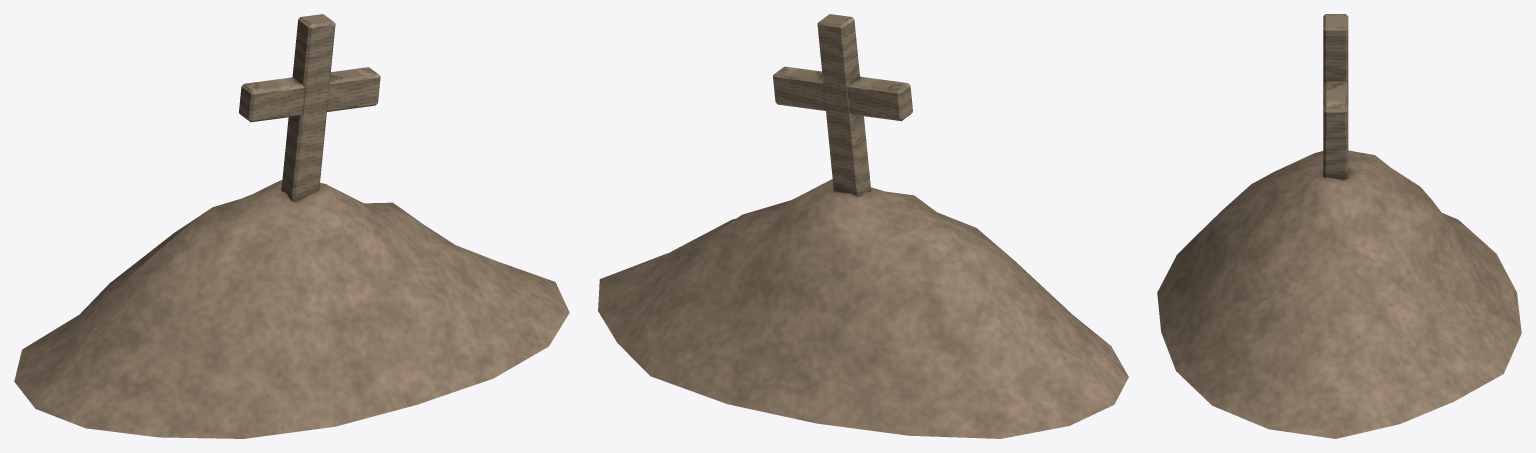
Rendered from GraveMarker.fbx.
3 renders of one model, left to right at view 1: azimuth 30°, elevation 25°; view 2: azimuth 150°, elevation 25°; view 3: azimuth 270°, elevation 25°, orthographic. The views are drawn at different scales.
Parts seen in each view (by area): view 1: GraveMarker; view 2: GraveMarker; view 3: GraveMarker.
Boxes of the visible parts, x1,y1,x2,y2 form: GraveMarker: [14, 14, 569, 438]; GraveMarker: [598, 14, 1128, 438]; GraveMarker: [1157, 14, 1521, 438].
Size of the model in its own units: 4.6 by 2.72 by 2.91.
1 material, 1 textured.
